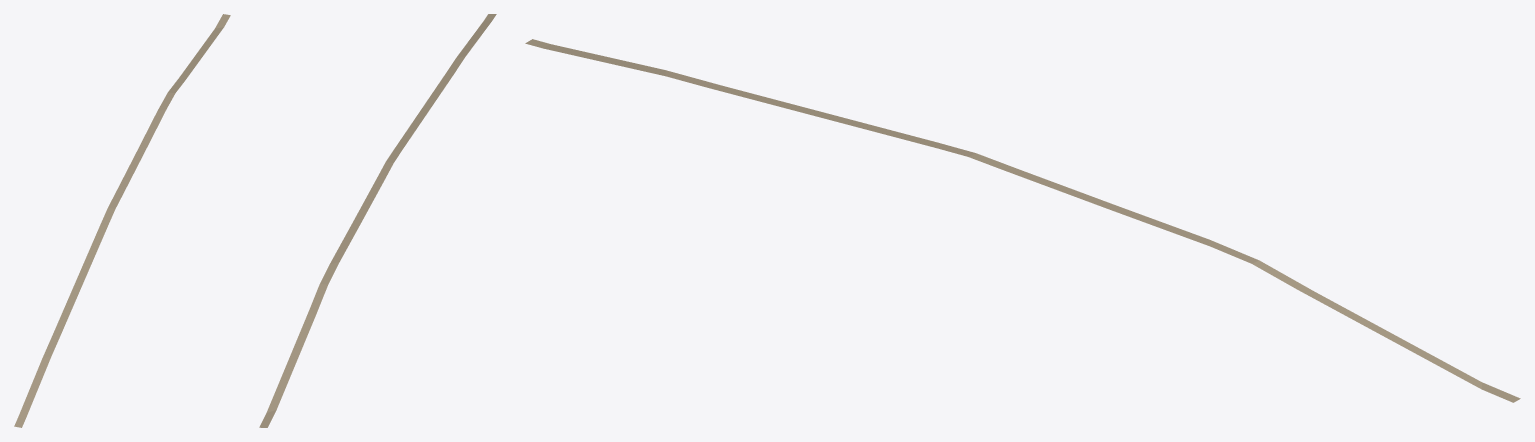
The model's file is farm_-15_-24_track.glb.
3 views of the same model, side by side, from view 1: azimuth 30°, elevation 25°; view 2: azimuth 210°, elevation 25°; view 3: azimuth 270°, elevation 25° (orthographic). The views are drawn at different scales.
Parts seen in each view (by area): view 1: geometry_0; view 2: geometry_0; view 3: geometry_0.
Boxes of the visible parts, <box> form: geometry_0: <box>14,14,230,427</box>; geometry_0: <box>259,14,496,427</box>; geometry_0: <box>525,39,1520,402</box>.
Bounding box in the file's own units: 270 × 20.63 × 293.
